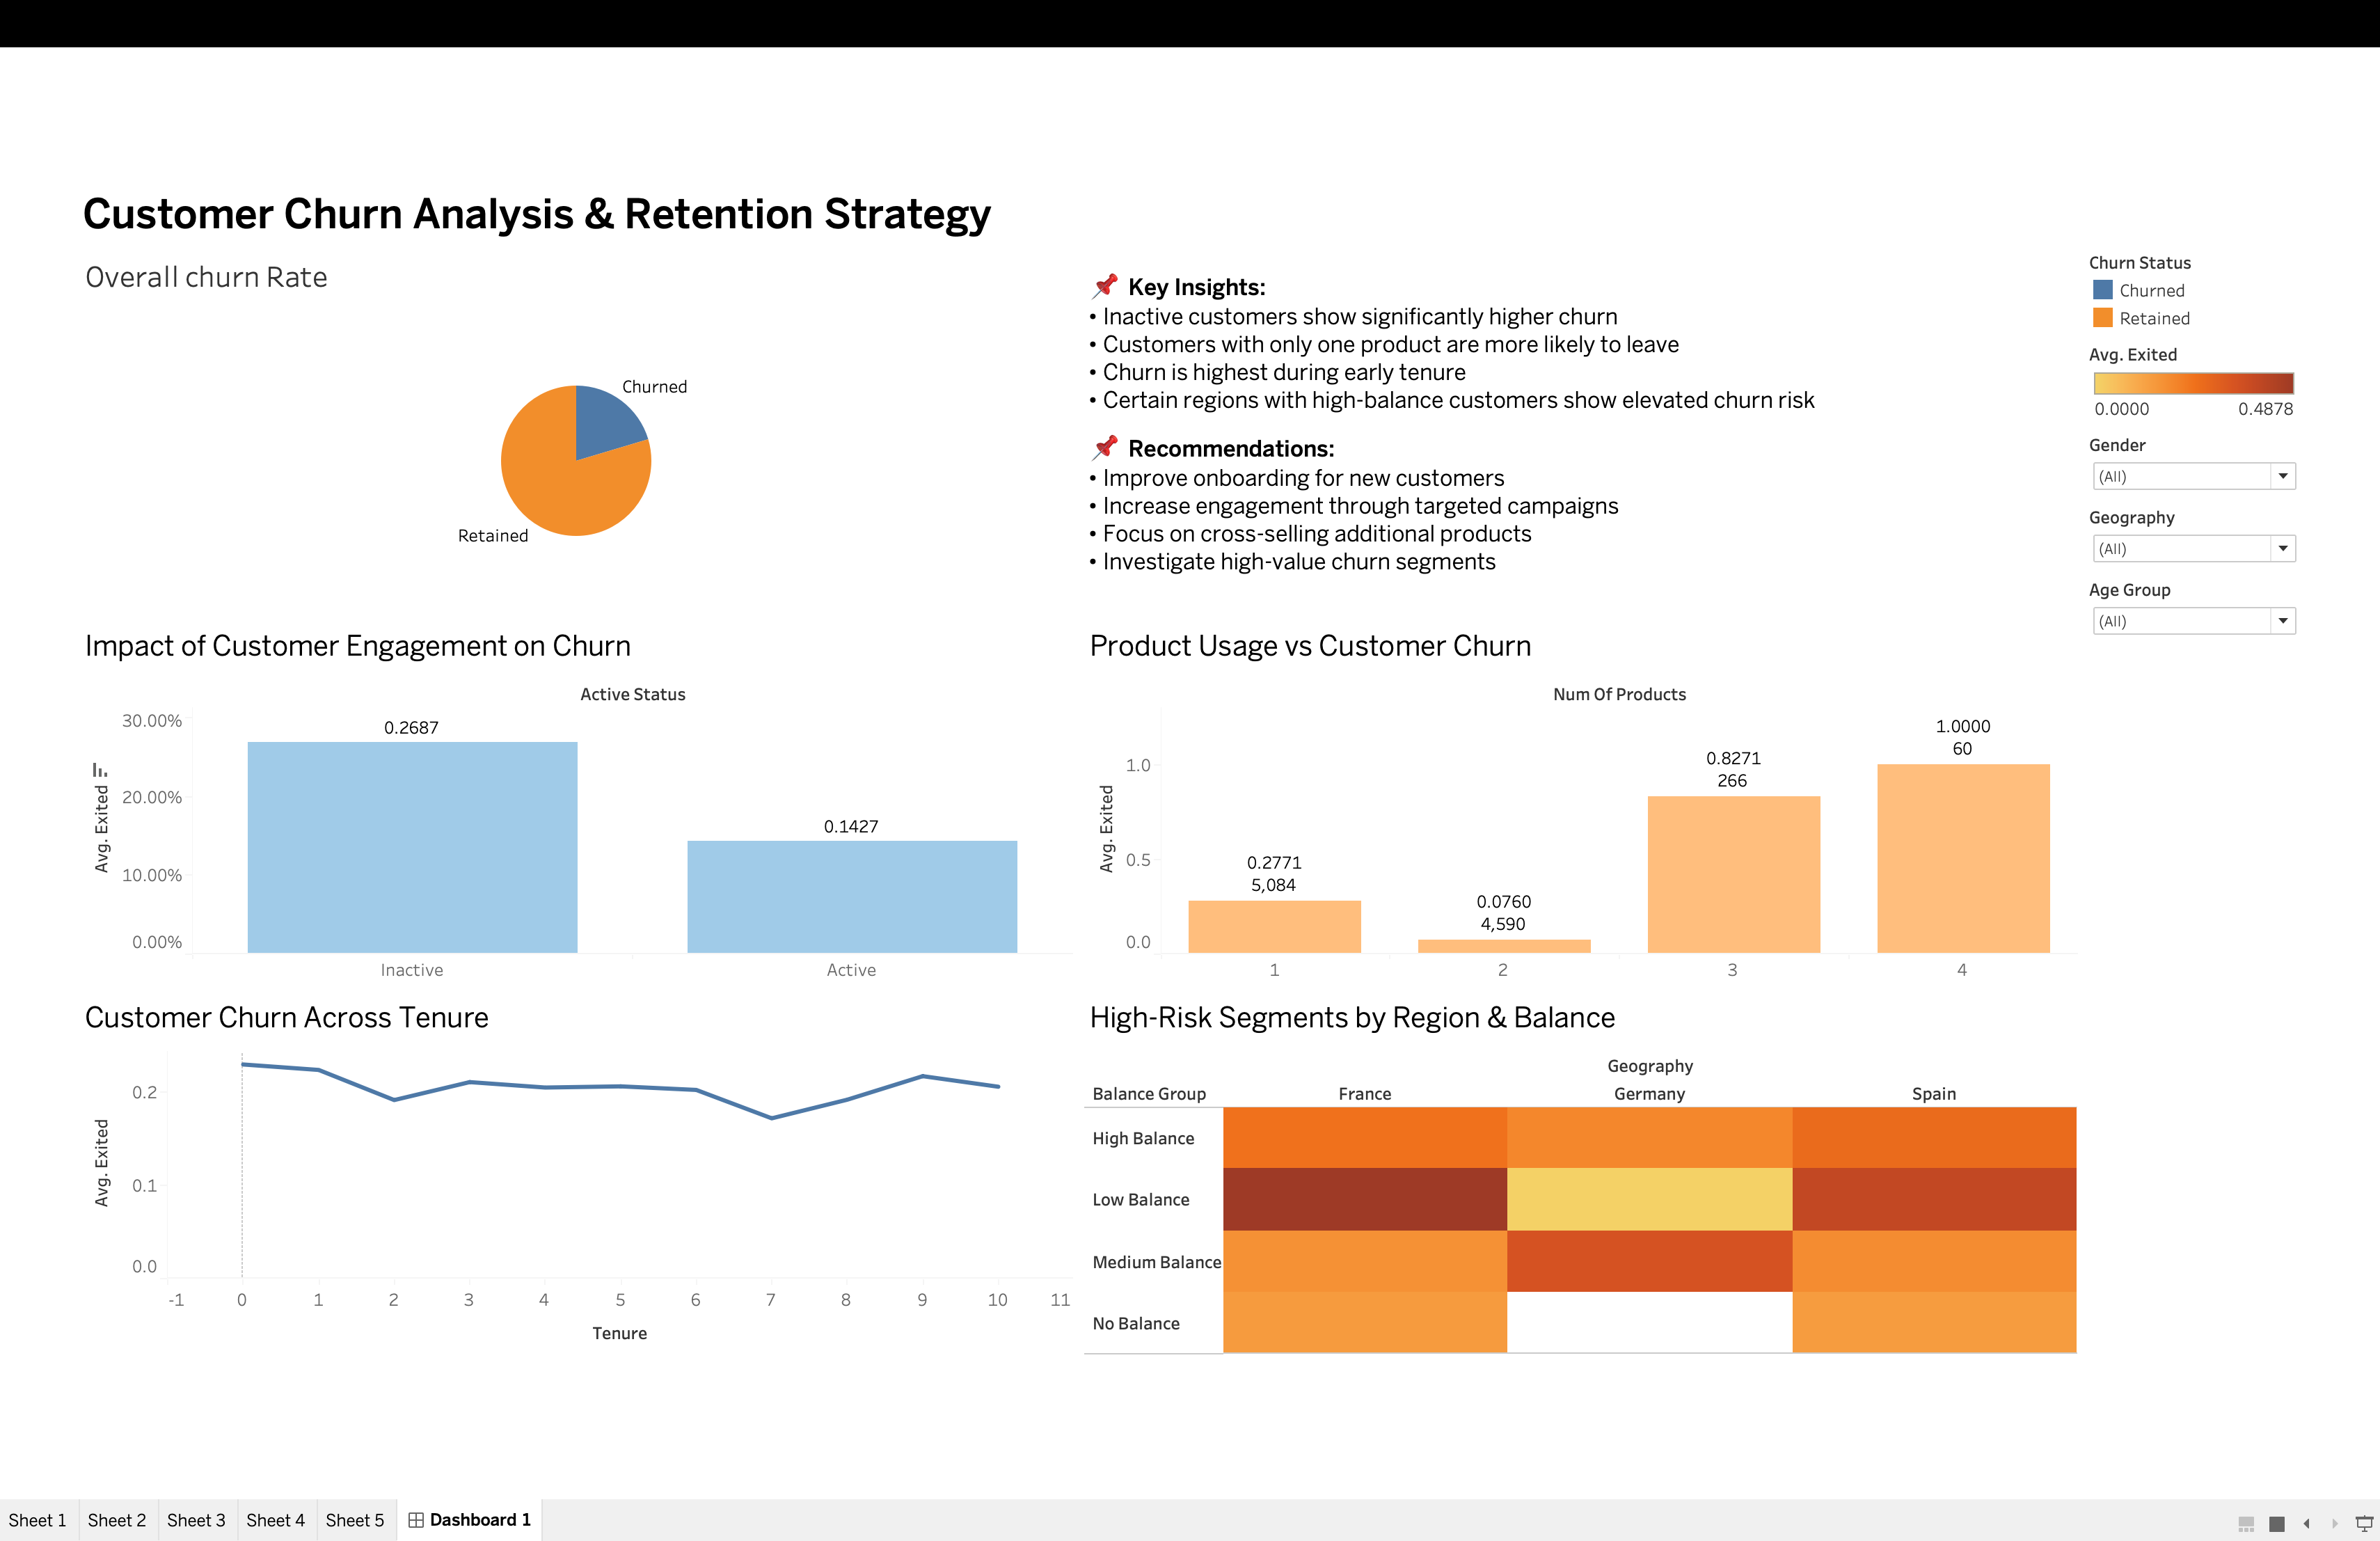

The page's visual inventory and layout, read from the dashboard file:
{"tool":"tableau","page":{"name":"Dashboard 1","canvas":[1000,1000],"units":"permille","ordinal":0},"visuals":[{"type":"title","box":[5.5,9.8,989.1,52.8]},{"type":"worksheet","title":"Sheet 1","mark":"Pie","box":[5.5,62.7,440,309.1]},{"type":"text","box":[445.5,62.7,440.2,309.1]},{"type":"legend","title":"Sheet 1","param":"[federated.0zx2x821hsgfo91gahgzk03ige99].[none:Churn Status:nk]","box":[885.6,62.7,108.9,81.1]},{"type":"legend","title":"Sheet 5","param":"[federated.0zx2x821hsgfo91gahgzk03ige99].[avg:Exited:qk]","box":[885.6,143.7,108.9,79.9]},{"type":"filter","title":"Sheet 4","param":"[federated.0zx2x821hsgfo91gahgzk03ige99].[none:Gender:nk]","box":[885.6,223.6,108.9,63.9]},{"type":"filter","title":"Sheet 4","param":"[federated.0zx2x821hsgfo91gahgzk03ige99].[none:Geography:nk]","box":[885.6,287.5,108.9,63.9]},{"type":"filter","title":"Sheet 4","param":"[federated.0zx2x821hsgfo91gahgzk03ige99].[none:Age Group:nk]","box":[885.6,351.4,108.9,63.9]},{"type":"worksheet","title":"Sheet 3","mark":"Automatic","rows":["Exited"],"cols":["Active Status"],"box":[5.5,371.8,440,309.2]},{"type":"worksheet","title":"Sheet 4","mark":"Bar","rows":["Exited"],"cols":["NumOfProducts"],"box":[445.5,371.8,440.2,309.2]},{"type":"worksheet","title":"Sheet 2","mark":"Line","rows":["Exited"],"cols":["Tenure"],"box":[5.5,680.9,440,309.2]},{"type":"worksheet","title":"Sheet 5","mark":"Automatic","rows":["Balance Group"],"cols":["Geography"],"box":[445.5,680.9,440.2,309.2]}]}

Visuals, with their boxes on the dashboard's canvas, which has no fixed pixel size, in thousandths of its width and height (x1, y1, x2, y2). These are canvas units, not pixel positions in the 2380x1541 screenshot, which may show the page scaled, cropped or inside an application window:
title: <region>6, 10, 995, 63</region>
"Sheet 1" worksheet (Pie marks): <region>6, 63, 446, 372</region>
text: <region>446, 63, 886, 372</region>
"Sheet 1" legend: <region>886, 63, 994, 144</region>
"Sheet 5" legend: <region>886, 144, 994, 224</region>
"Sheet 4" filter: <region>886, 224, 994, 288</region>
"Sheet 4" filter: <region>886, 288, 994, 351</region>
"Sheet 4" filter: <region>886, 351, 994, 415</region>
"Sheet 3" worksheet: <region>6, 372, 446, 681</region>
"Sheet 4" worksheet (Bar marks): <region>446, 372, 886, 681</region>
"Sheet 2" worksheet (Line marks): <region>6, 681, 446, 990</region>
"Sheet 5" worksheet: <region>446, 681, 886, 990</region>
